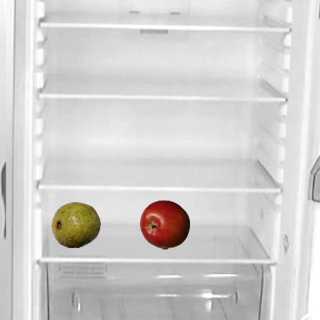Apple Braeburn: (139, 199, 189, 249)
Guava: (50, 199, 100, 249)
